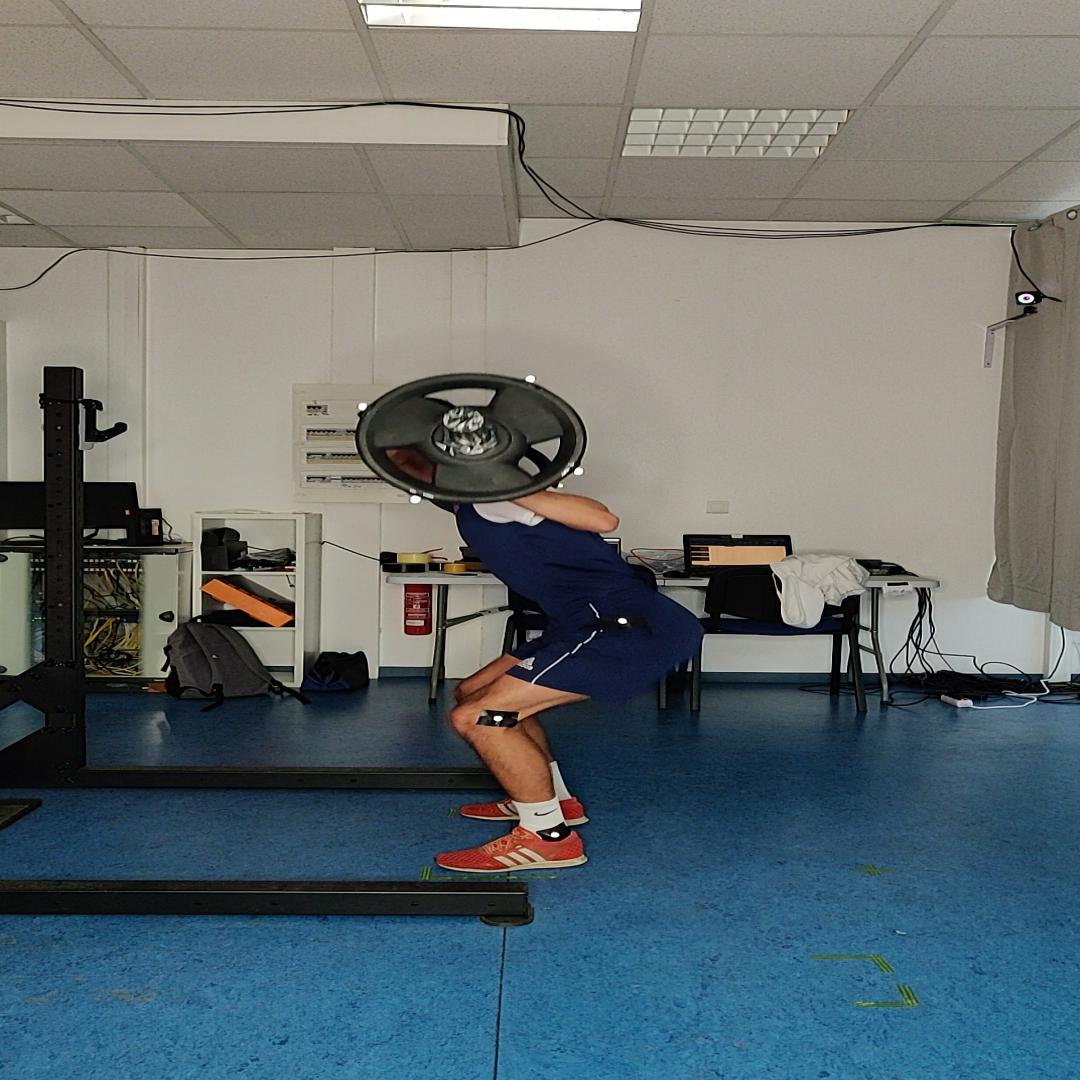Bar: (442, 408, 485, 432)
Barbell: (354, 373, 587, 505)
